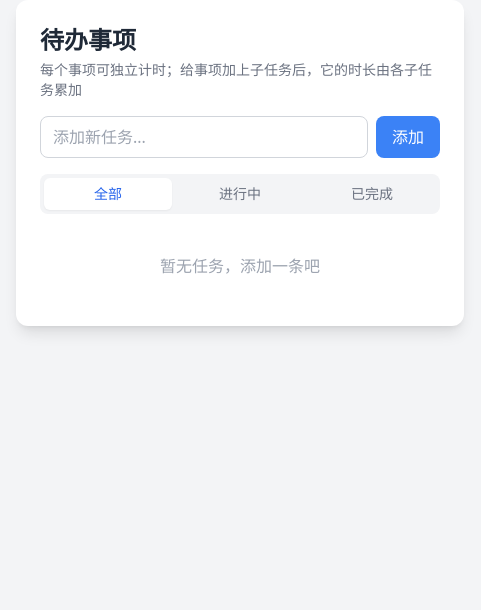
收起状态下点「+ 子任务」会自动展开
The width and height of the screenshot is (481, 610).
Type "408" into the field with placeholder "添加新任务...".
click(204, 137); type("408")  # box [40, 116, 368, 158]
Then press Enter
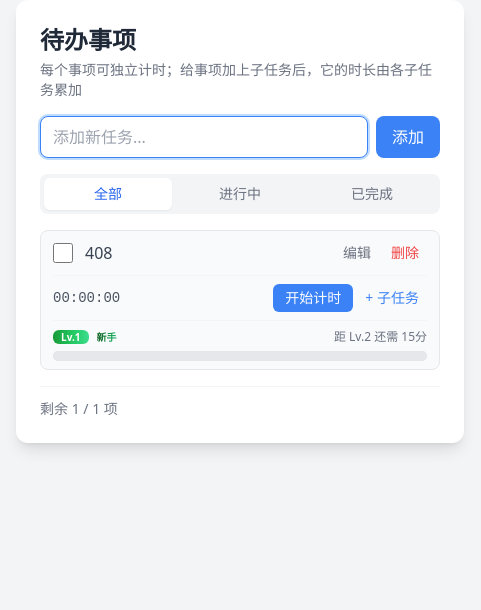
Expected: the text "408" is shown, [85, 242, 112, 264]
Click the button with aria-label "添加子任务".
click(392, 298)  # box [357, 284, 427, 312]
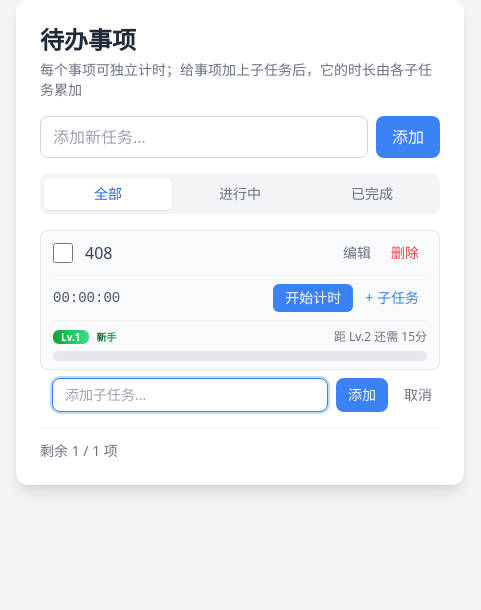
Type "操作系统" into the field with placeholder "添加子任务...".
click(190, 395); type("操作系统")  # box [52, 378, 328, 412]
Then press Enter
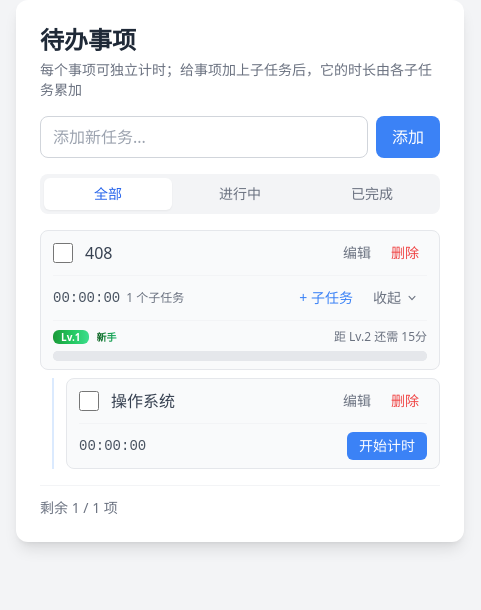
Expected: the text "操作系统" is shown, [111, 390, 175, 412]
Click the button "收起".
click(396, 298)  # box [365, 284, 427, 312]
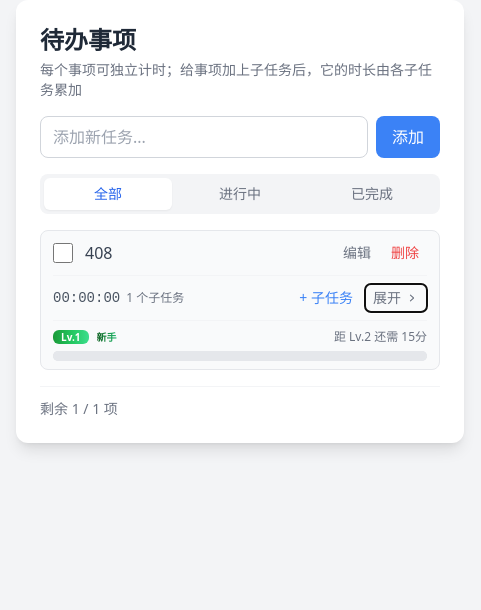
Expected: the text "操作系统" is gone
Click the button with aria-label "添加子任务".
click(326, 298)  # box [291, 284, 361, 312]
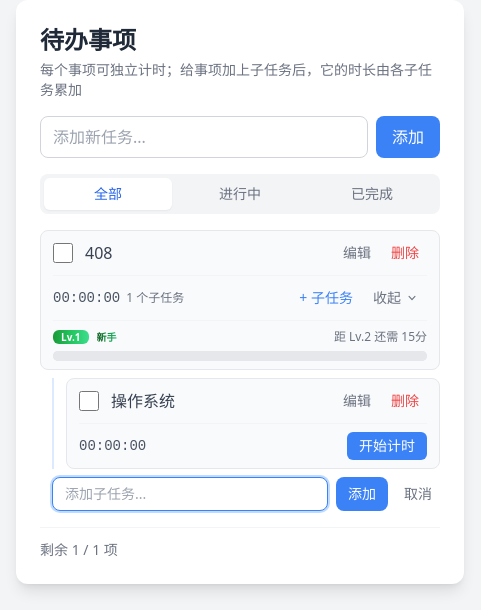
Expected: the text "操作系统" is shown, [111, 390, 175, 412]
